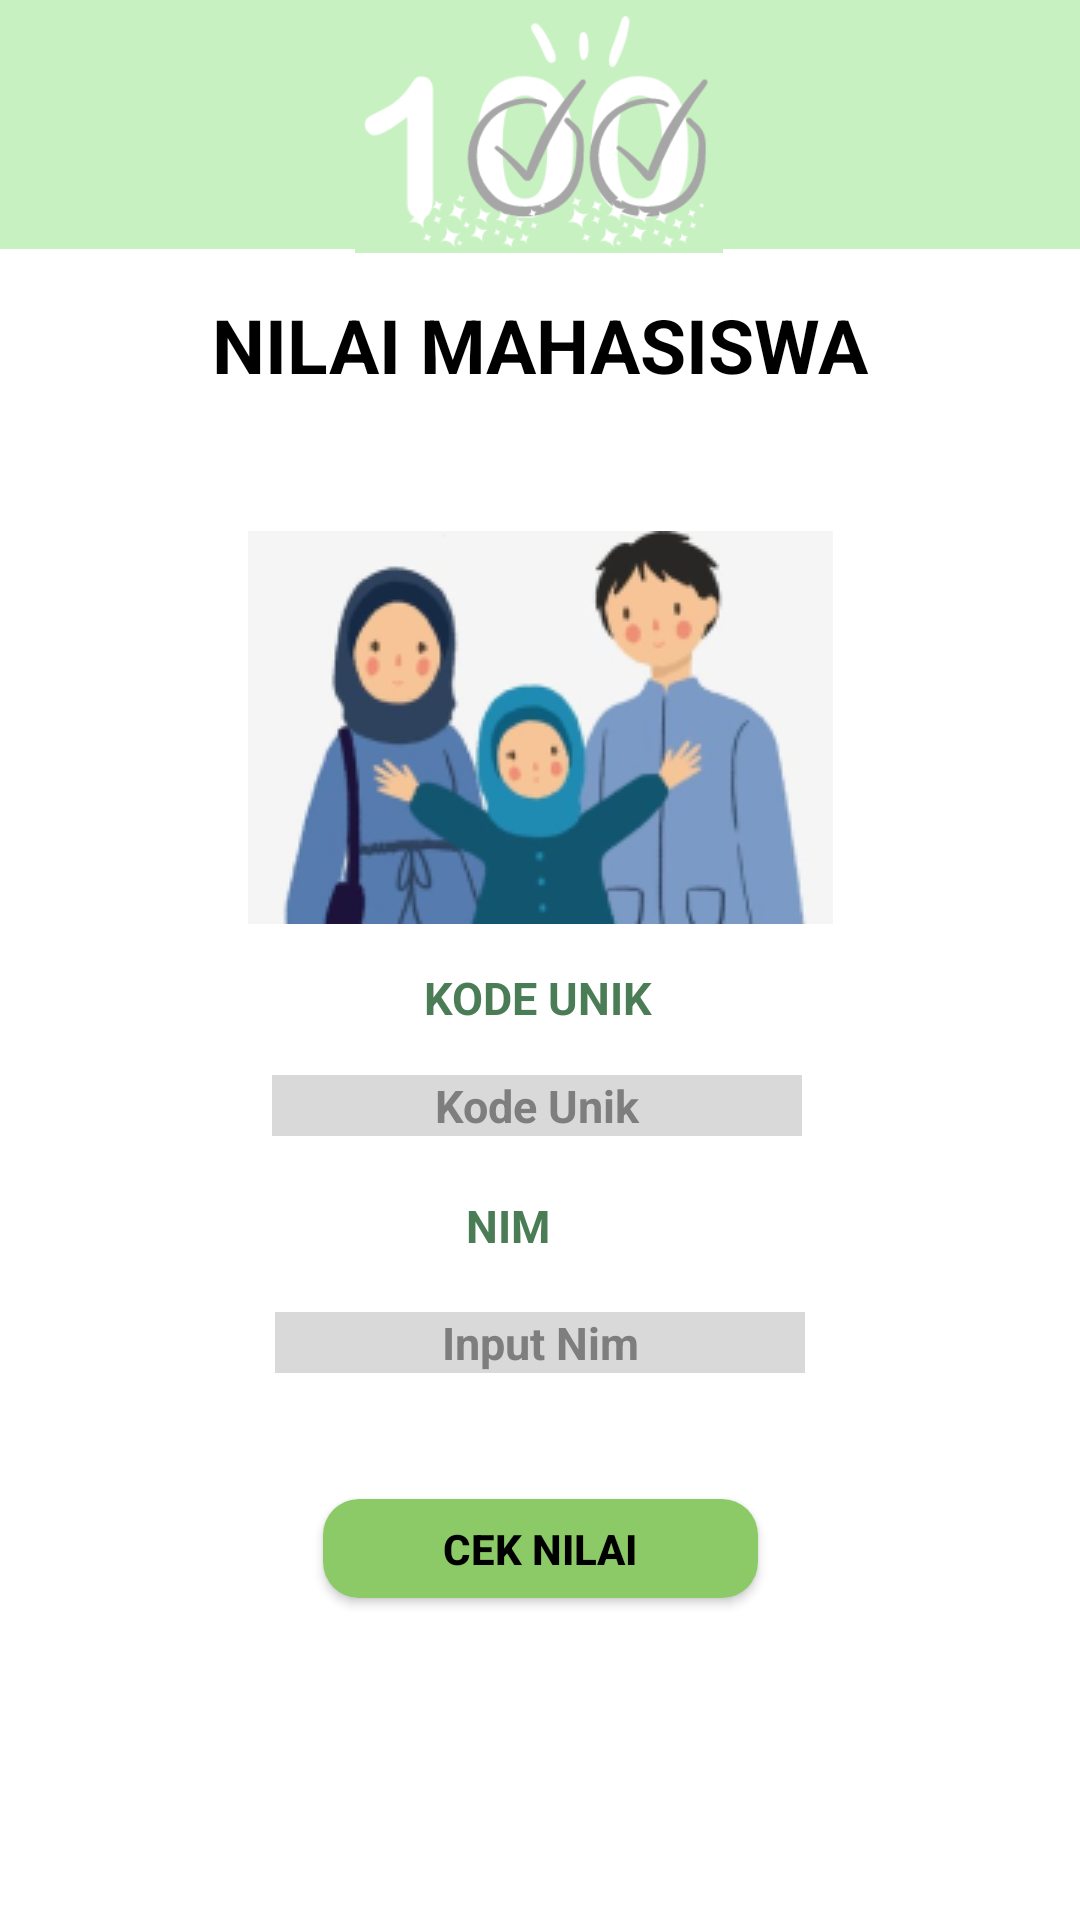

Named icons in this screenshot (1080x1920) and their bounding boxes, (x1, y1, x2, y2):
headerdotask: (365, 16, 708, 246)
